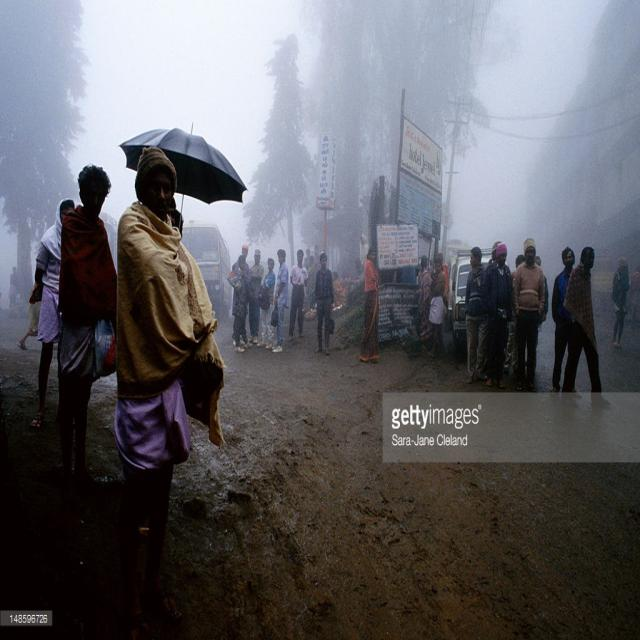body: (110, 139, 231, 625), (51, 161, 118, 494), (27, 195, 77, 432), (560, 245, 612, 413), (510, 235, 548, 394), (480, 240, 515, 395), (550, 245, 578, 394), (464, 244, 489, 384), (358, 246, 383, 366), (504, 253, 526, 376), (311, 250, 336, 355), (228, 254, 254, 353), (270, 247, 290, 355), (287, 247, 309, 343), (15, 282, 44, 350), (257, 255, 277, 351), (430, 256, 448, 360), (610, 256, 630, 349), (247, 247, 265, 345), (7, 258, 36, 314), (162, 193, 188, 246), (532, 255, 550, 331), (417, 255, 432, 337), (437, 251, 450, 304), (632, 251, 640, 330), (230, 242, 250, 273), (302, 244, 318, 282), (486, 242, 504, 270)
